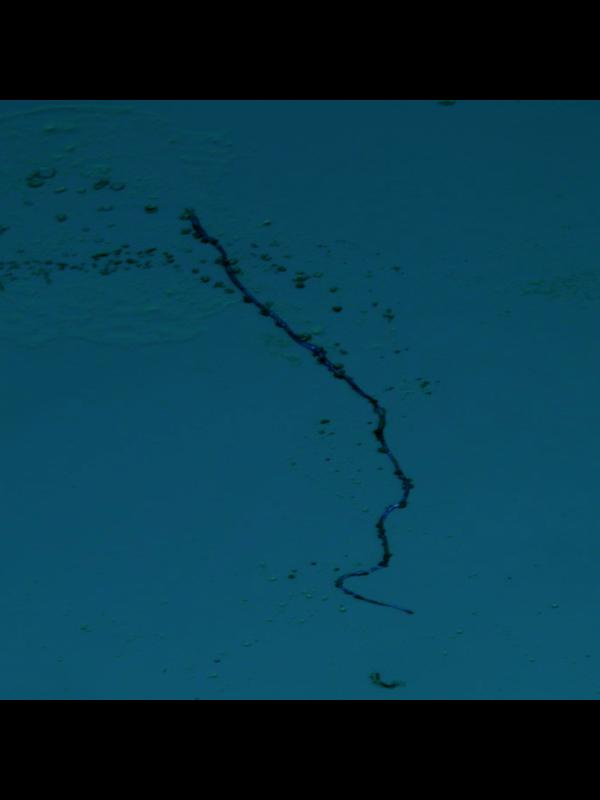microplastic: (174, 207, 420, 615)
